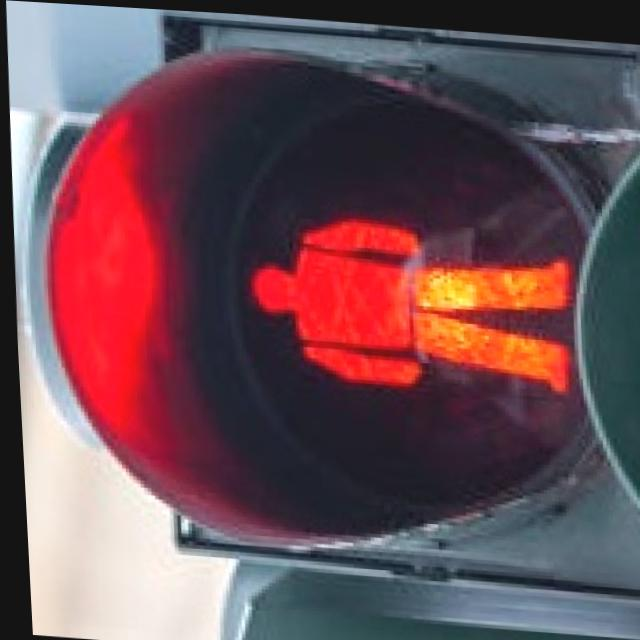red_light: (214, 197, 589, 410)
